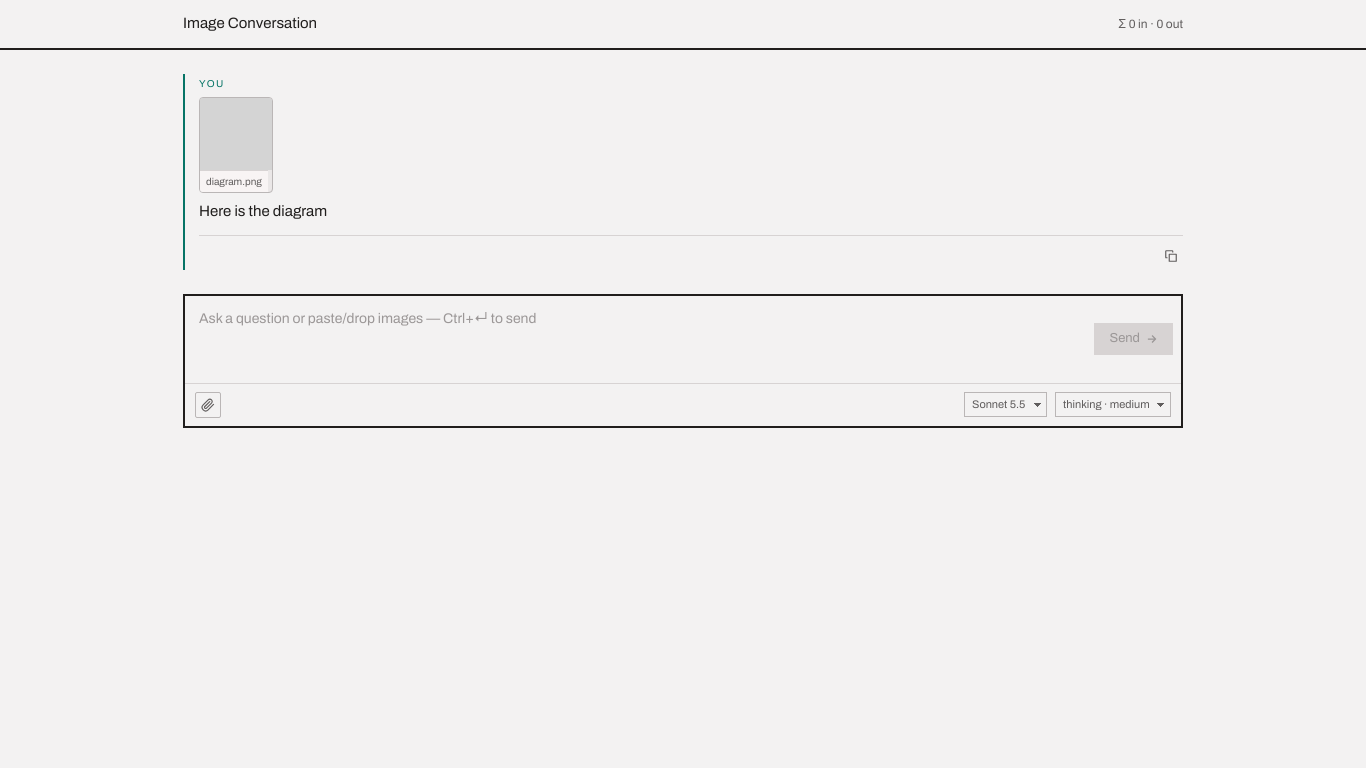
Test case: ChatView Image UI & Interactions › exposes message thumbnails as real buttons so they are reachable by keyboard
The image size is (1366, 768).
Note: Enter on a focused button is a click, which is exactly what a keyboard user gets.
Click the button with aria-label "View diagram.png full size".
click(236, 145)  # box x1=199 y1=96 x2=273 y2=193
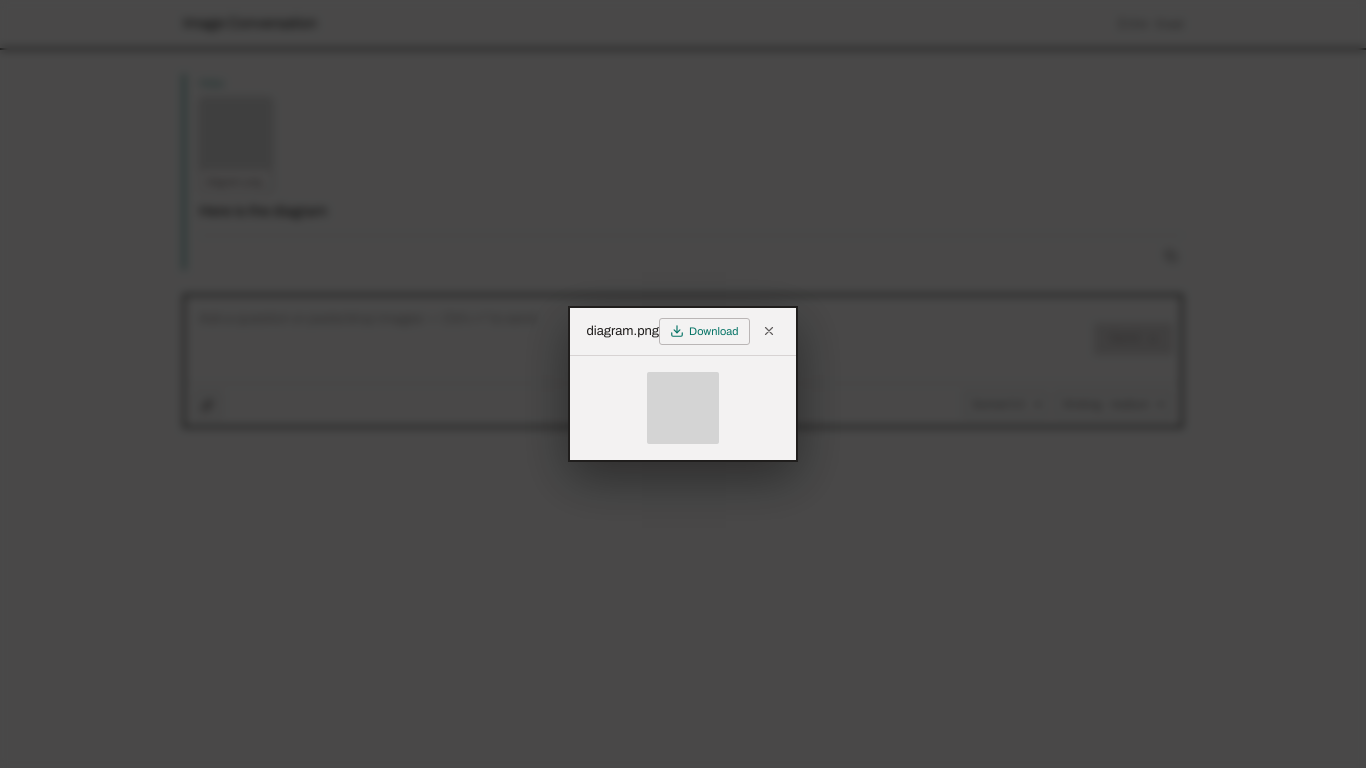
Expected: the element with class "image-lightbox-modal" is shown, x1=568 y1=306 x2=798 y2=462
